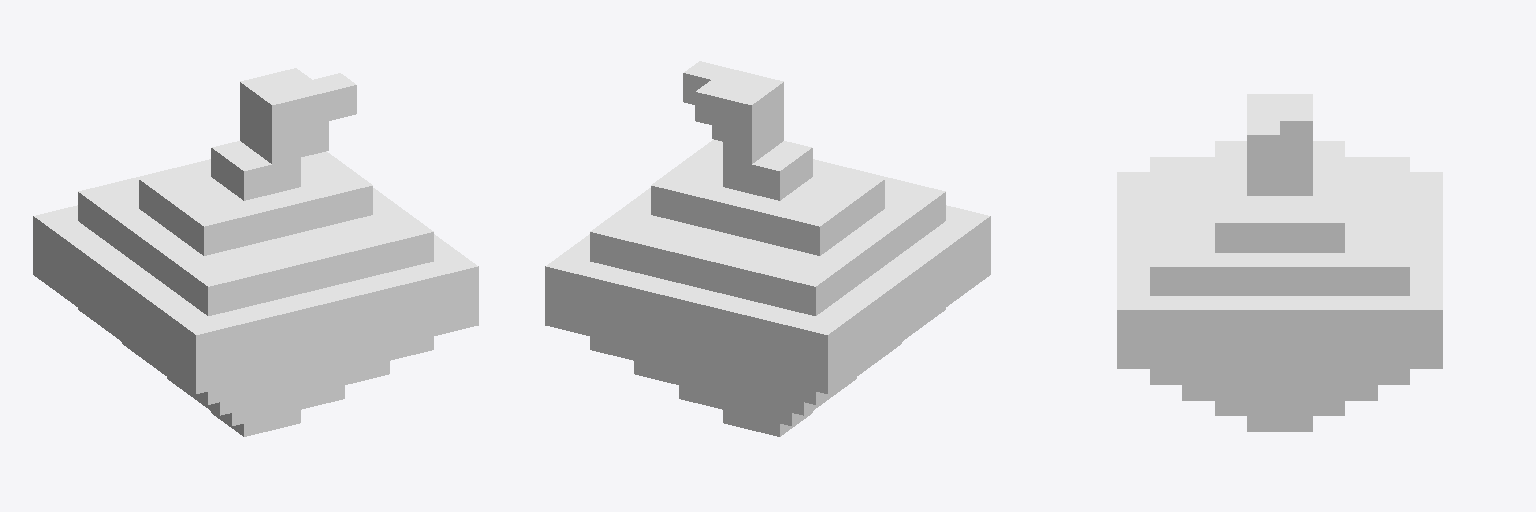
File: apple.obj
3 renders of one model, left to right at view 1: azimuth 30°, elevation 25°; view 2: azimuth 150°, elevation 25°; view 3: azimuth 270°, elevation 25°, orthographic.
Size of the model in its own units: 10 by 11 by 10.